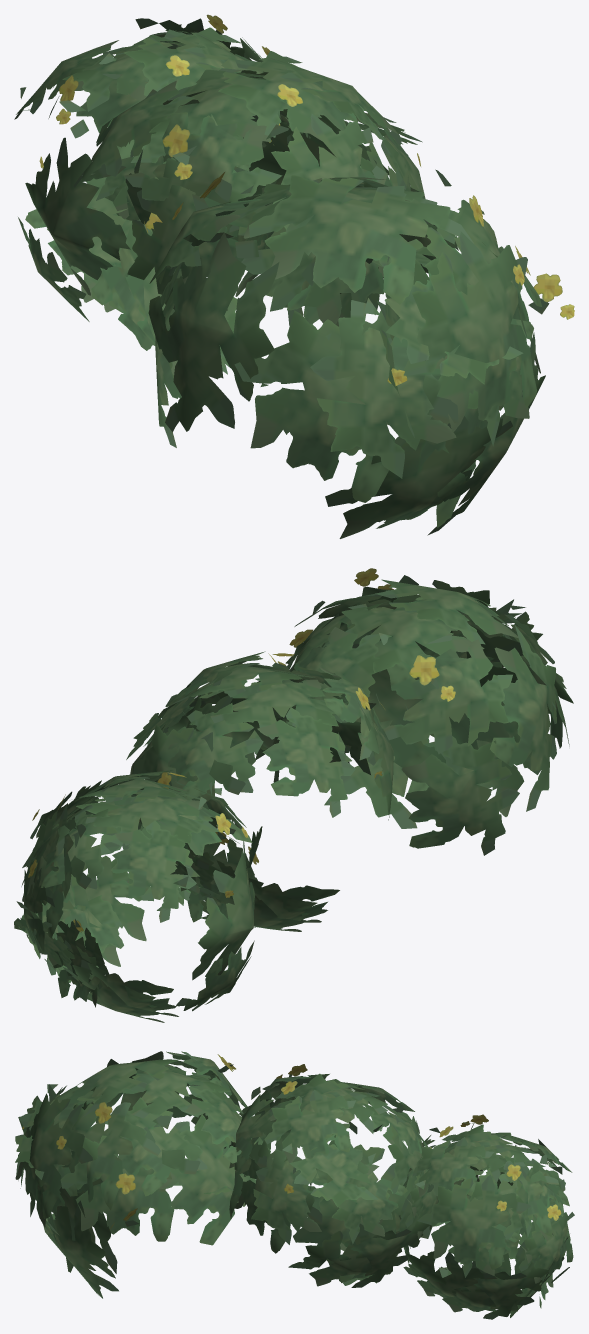
Rendered from pref_sm_beach_bk_pointmol_grassplant06a_lv1.fbx.
3 views of the same model, one above another, from view 1: azimuth 30°, elevation 25°; view 2: azimuth 150°, elevation 25°; view 3: azimuth 270°, elevation 25° (orthographic). The views are drawn at different scales.
Parts seen in each view (by area): view 1: pref_sm_beach_bk_pointmol_grassplant06a_lv1; view 2: pref_sm_beach_bk_pointmol_grassplant06a_lv1; view 3: pref_sm_beach_bk_pointmol_grassplant06a_lv1.
Part boxes in pixels (bbox=[...]): pref_sm_beach_bk_pointmol_grassplant06a_lv1: bbox=[14, 14, 574, 538]; pref_sm_beach_bk_pointmol_grassplant06a_lv1: bbox=[14, 568, 573, 1022]; pref_sm_beach_bk_pointmol_grassplant06a_lv1: bbox=[15, 1051, 574, 1319].
Bounding box in the file's own units: 4.87 × 4.29 × 9.81.
